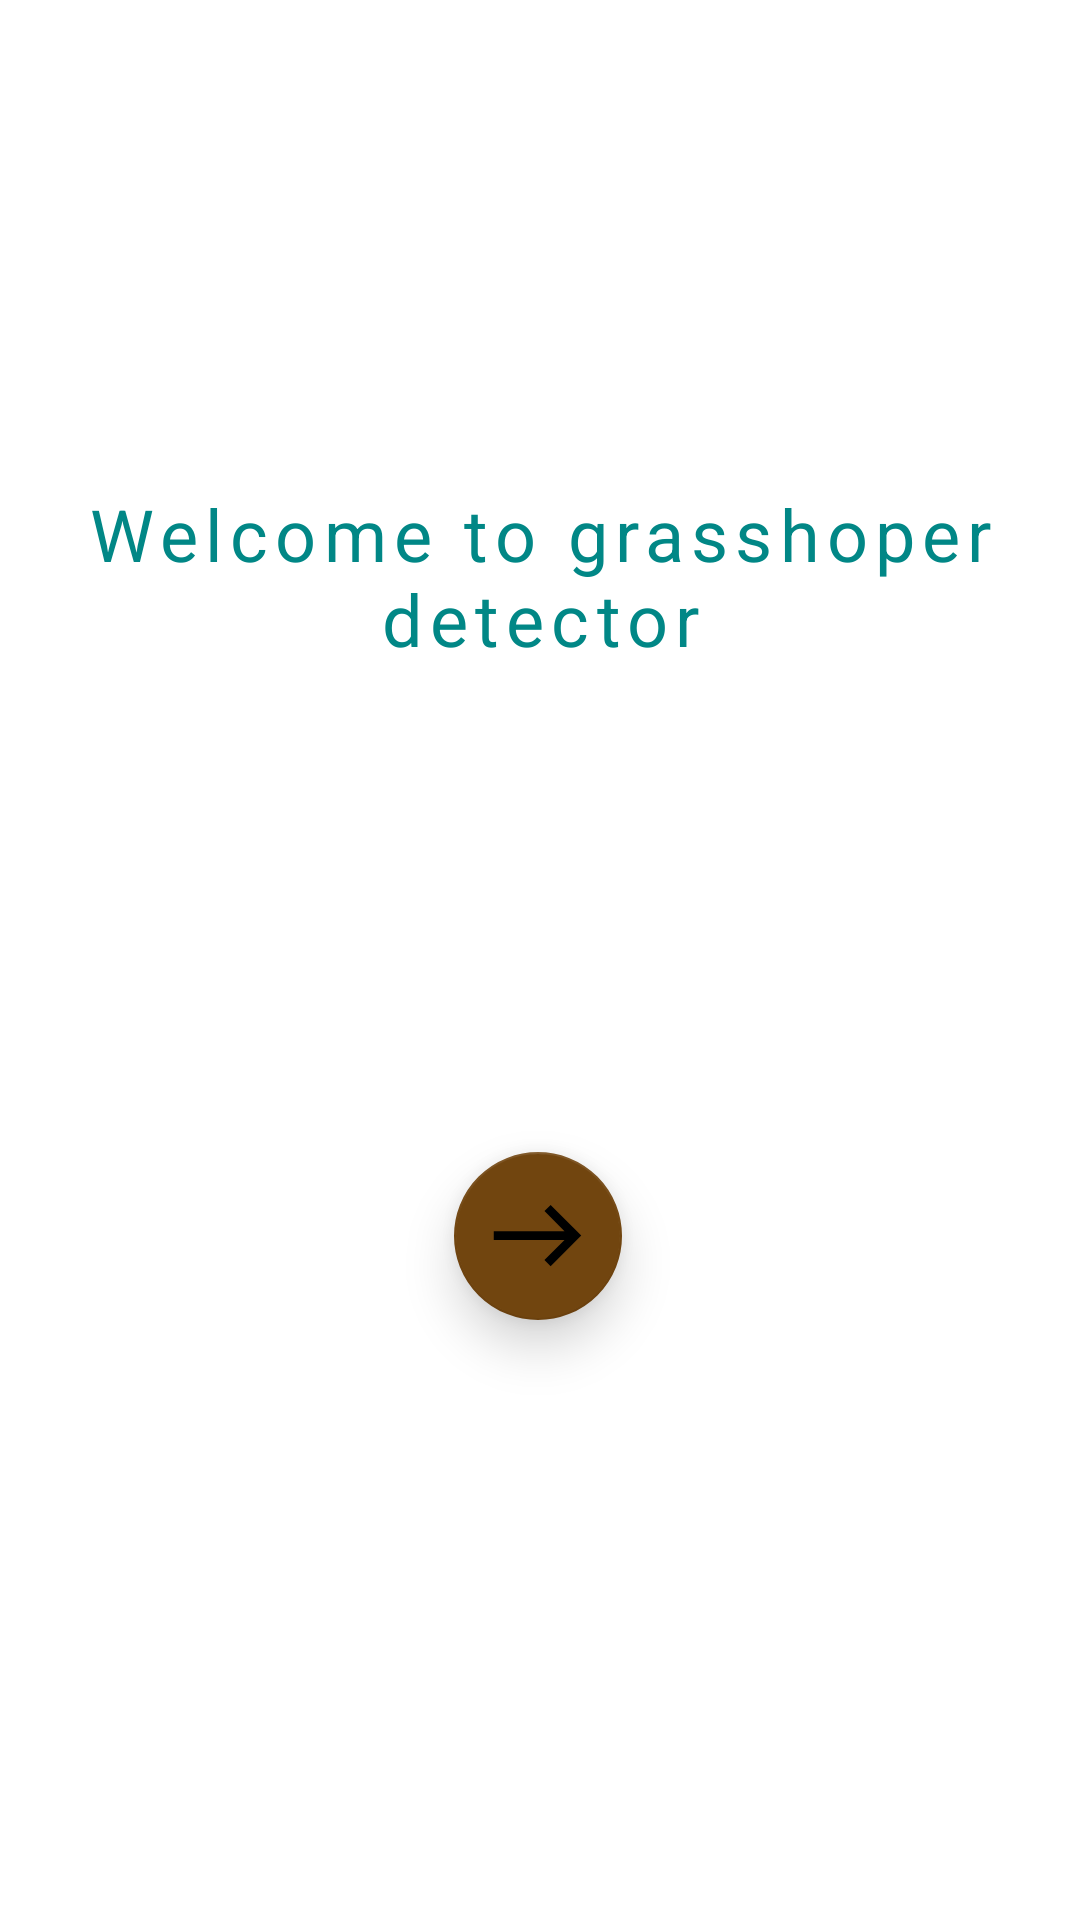

Named icons in this screenshot (1080px×1920px) and their bounding boxes, (x1, y1, x2, y2):
east: (454, 1152, 622, 1320)
